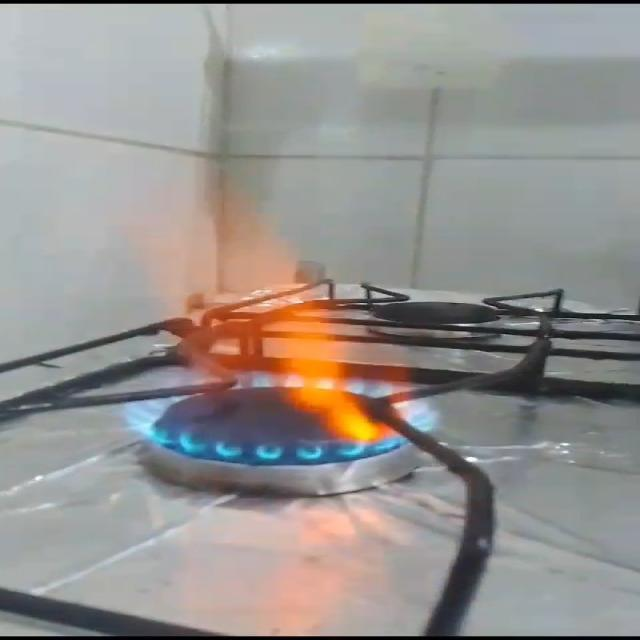fire: (110, 154, 453, 469)
